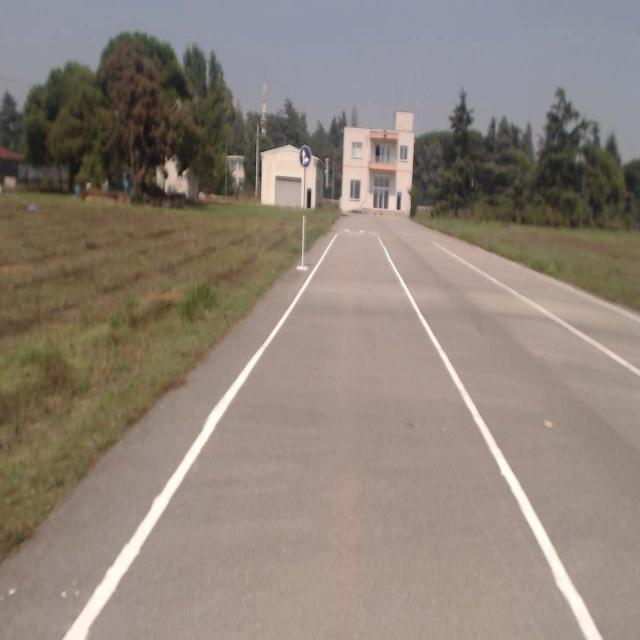ilerisag: (300, 145, 310, 167)
